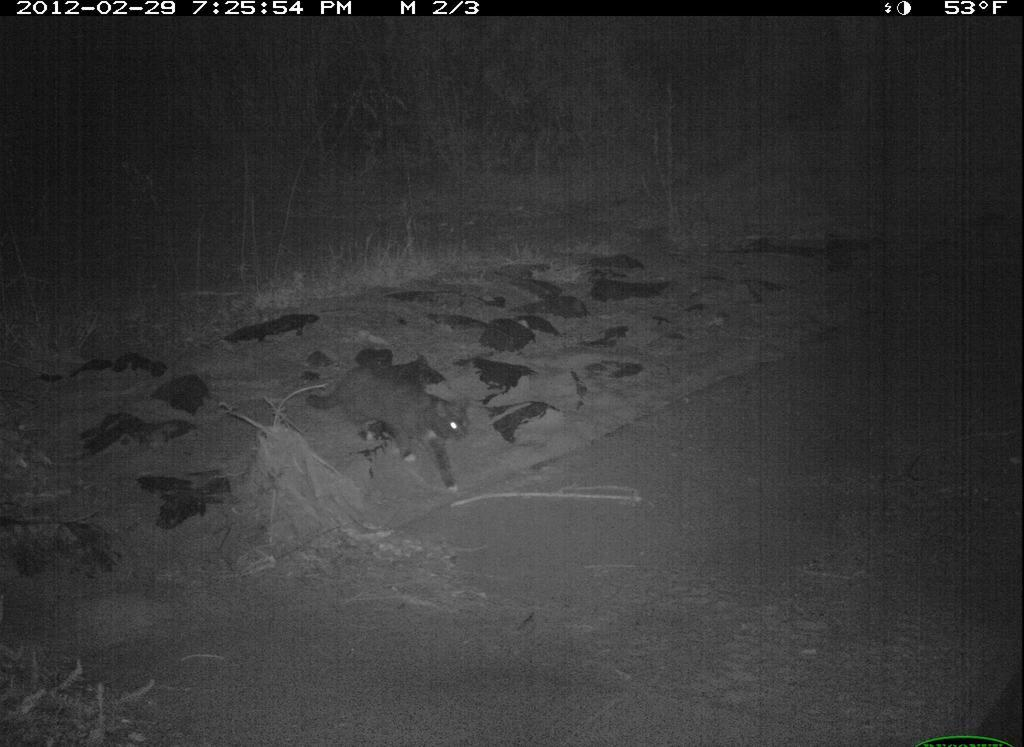cat: (303, 355, 483, 496)
